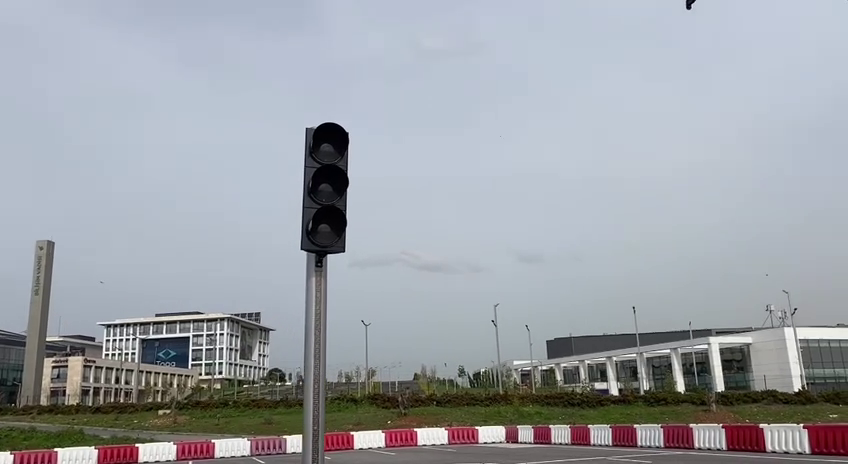trafficLight: (295, 117, 355, 266)
